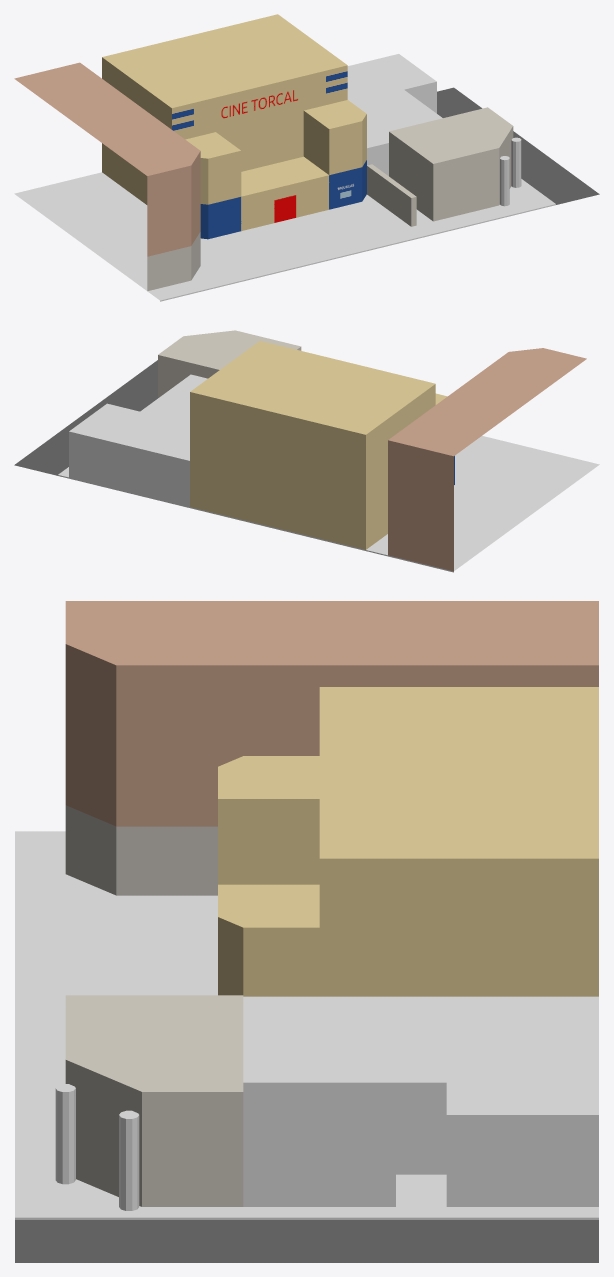
Rendered from chunk_cine_torcal.glb.
The picture shows the model from 3 angles, top to bottom: view 1: azimuth 30°, elevation 25°; view 2: azimuth 150°, elevation 25°; view 3: azimuth 270°, elevation 25°; orthographic projection. The views are drawn at different scales.
Parts seen in each view (by area): view 1: Cine, Sidewalk, Mafia, Bank, Music School, Banner, Cylinder.001, Cylinder; view 2: Cine, Mafia, Sidewalk, Music School, Bank; view 3: Cine, Mafia, Music School, Sidewalk, Bank, Cylinder, Cylinder.001.
Part boxes in pixels (box(x1,y1,x2,y2)): Cine: box(102, 14, 366, 239); Sidewalk: box(14, 87, 599, 301); Mafia: box(14, 62, 200, 291); Bank: box(367, 107, 513, 226); Music School: box(347, 54, 442, 175); Banner: box(172, 65, 347, 139); Cylinder.001: box(511, 137, 521, 187); Cylinder: box(500, 156, 509, 206); Cine: box(190, 341, 454, 549); Mafia: box(388, 348, 586, 571); Sidewalk: box(14, 360, 599, 572); Music School: box(69, 374, 207, 506); Bank: box(158, 330, 301, 397); Cine: box(218, 687, 598, 996); Mafia: box(65, 601, 598, 895); Music School: box(243, 996, 598, 1206); Sidewalk: box(15, 831, 598, 1262); Bank: box(65, 995, 243, 1206); Cylinder: box(55, 1084, 75, 1184); Cylinder.001: box(119, 1110, 139, 1210).
Size of what is drawn, in the model's own units: 40 by 10.1 by 23.
Materials: 10 (2 with a texture image).
